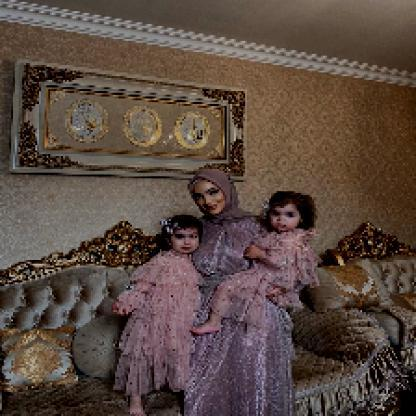child: (191, 192, 325, 337), (111, 215, 204, 416)
